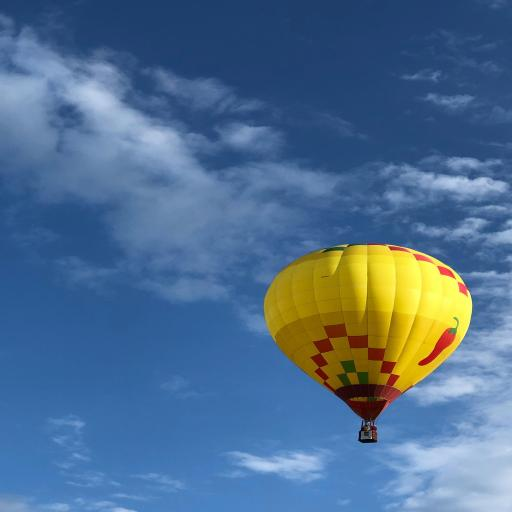hot air ballon: (263, 244, 472, 442)
